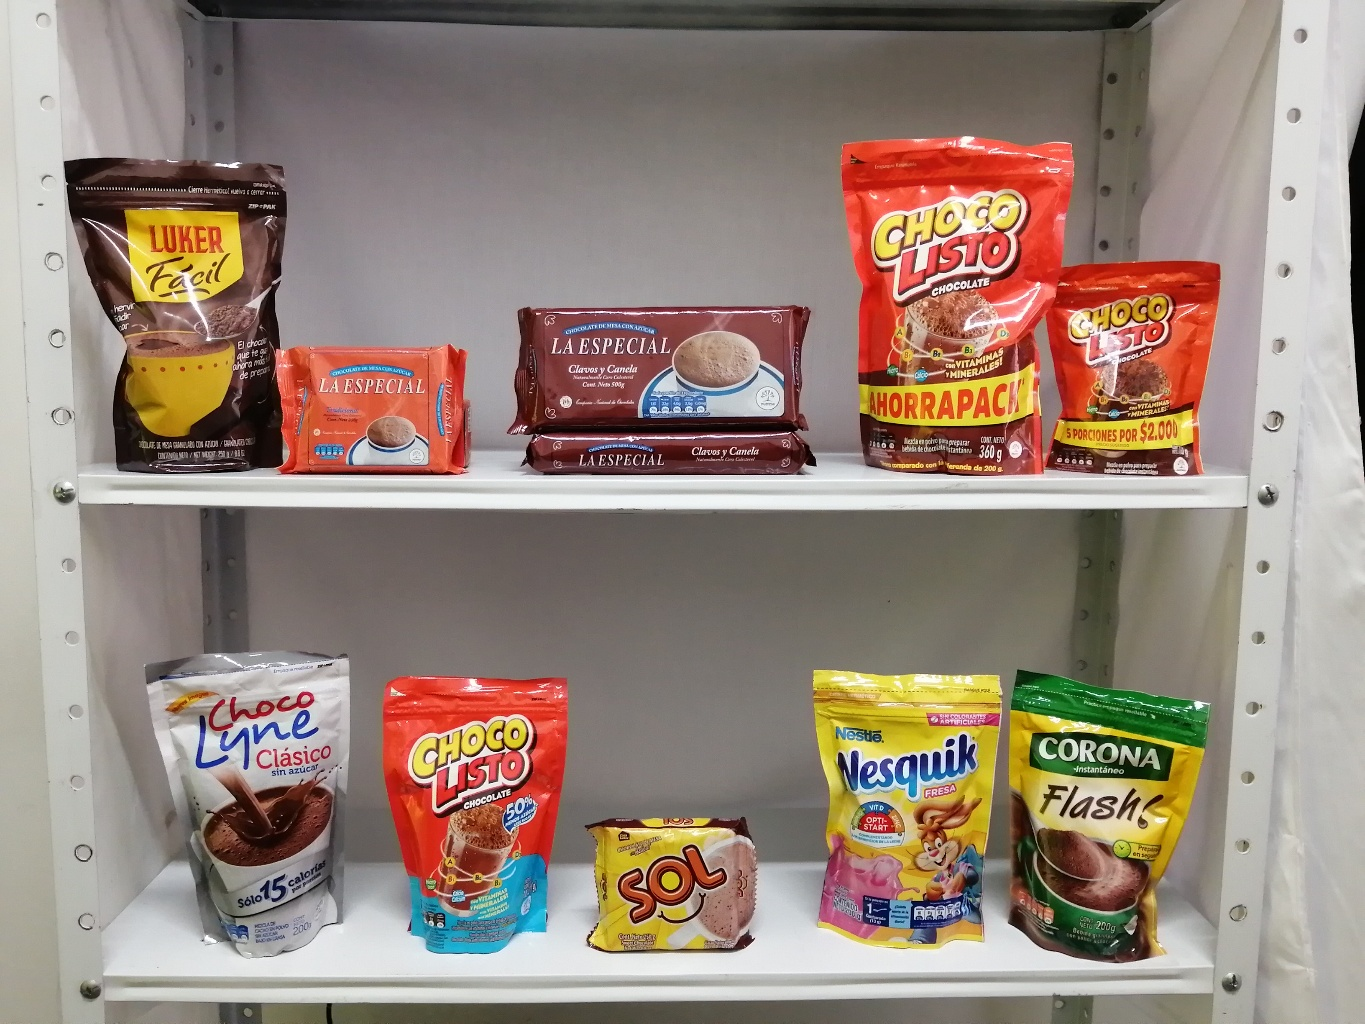COL0170103DYP36000: (824, 124, 1085, 488)
COL0170104DYP20000: (371, 663, 580, 967)
COL0170305DYP20000: (797, 654, 1010, 956)
